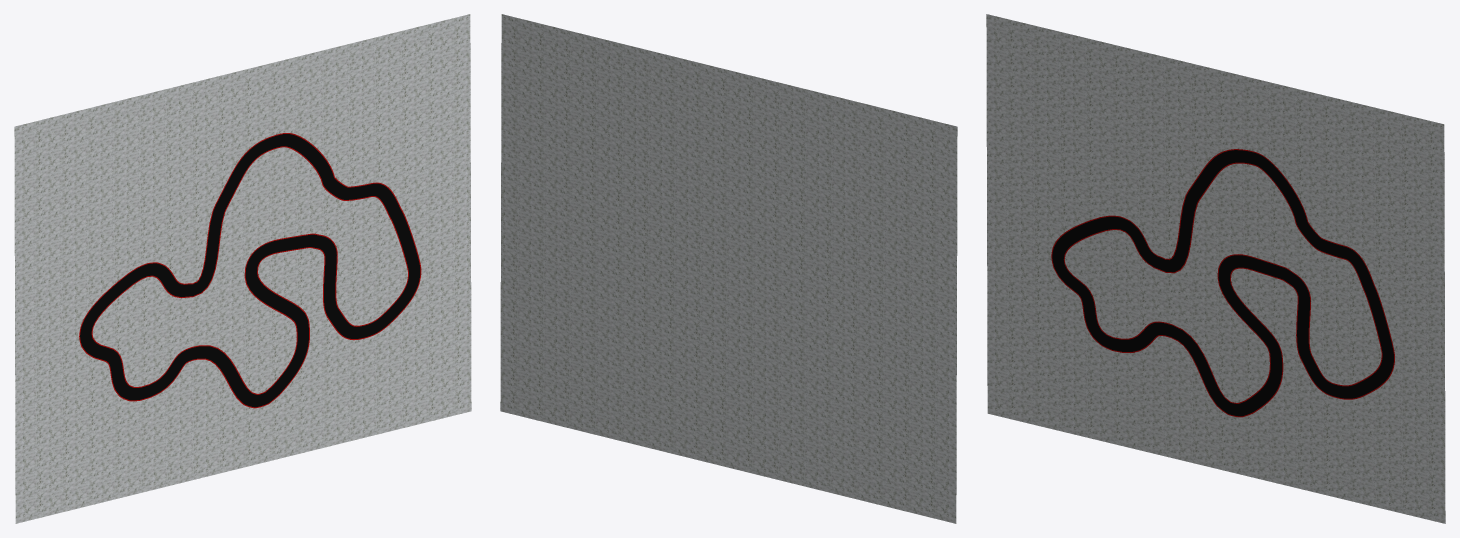
File: snow_track.obj
3 renders of one model, left to right at view 1: azimuth 30°, elevation 25°; view 2: azimuth 150°, elevation 25°; view 3: azimuth 330°, elevation 25°, orthographic.
Visible parts, largest first — view 1: Ground, Track; view 2: Ground; view 3: Ground, Track.
Part boxes in pixels (x1,y1,x2,y2): Ground: (14,14,471,523); Track: (79,133,421,408); Ground: (500,14,957,523); Ground: (986,14,1445,523); Track: (1051,149,1394,417).
Size of the model in its own units: 34.77 by 29.01 by 0.00509.
Materials: 3 (1 with a texture image).
